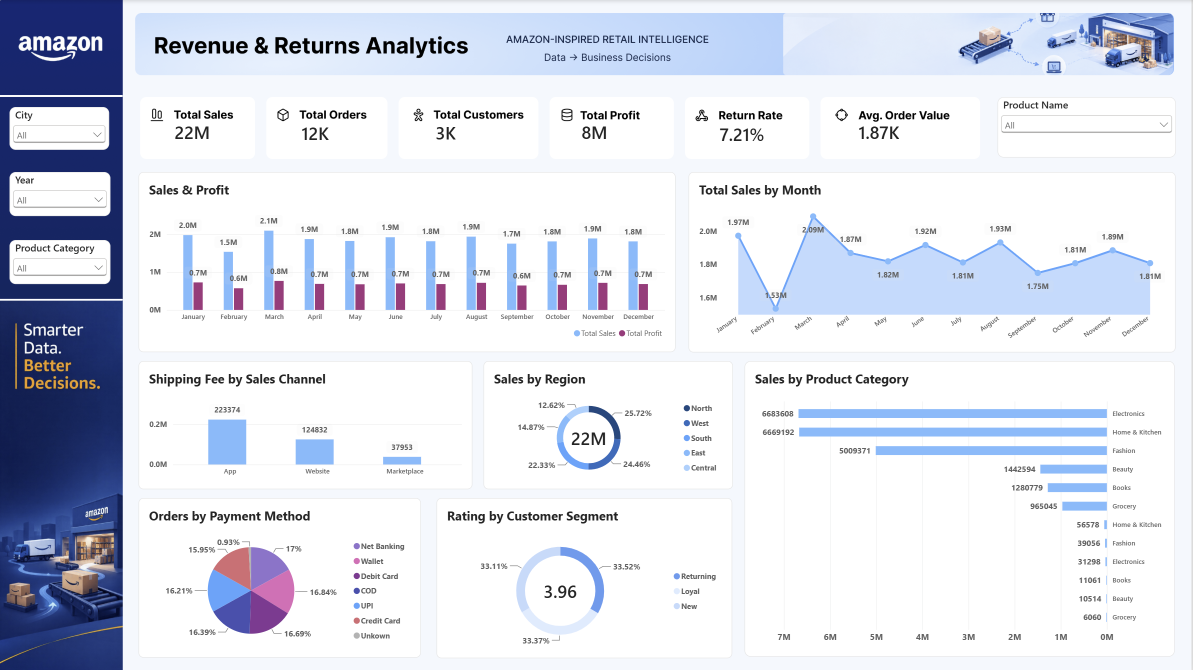

The page's visual inventory and layout, read from the dashboard file:
{"tool":"powerbi","page":{"name":"Page 1","canvas":[1920,1080],"ordinal":0},"visuals":[{"type":"image","box":[0,0,1920,1080],"z":1},{"type":"clusteredColumnChart","title":"Sales & Profit","fields":{"Category":["Amazon_Ecommerce_Messy_Dataset.New_order_date.Variation.Date Hierarchy.Month"],"Y":["Amazon_Ecommerce_Messy_Dataset.Total Sales","Amazon_Ecommerce_Messy_Dataset.Total Profit"]},"box":[225.7,277.1,864.3,290],"z":2},{"type":"donutChart","title":"Sales by Region","fields":{"Category":["Amazon_Ecommerce_Messy_Dataset.Region"],"Y":["Amazon_Ecommerce_Messy_Dataset.Total Sales"]},"box":[780.2,581.4,401.6,206.5],"z":3},{"type":"pieChart","title":"Orders by Payment Method","fields":{"Category":["Amazon_Ecommerce_Messy_Dataset.Payment_Method"],"Y":["Amazon_Ecommerce_Messy_Dataset.Total Orders"]},"box":[225.7,801.4,454.3,257.1],"z":4},{"type":"cardVisual","fields":{"Data":["Amazon_Ecommerce_Messy_Dataset.Total Sales"]},"box":[267.1,177.1,102.9,71.4],"z":6},{"type":"cardVisual","fields":{"Data":["Amazon_Ecommerce_Messy_Dataset.Total Orders"]},"box":[472.4,177.8,118.6,74.6],"z":7},{"type":"cardVisual","fields":{"Data":["Amazon_Ecommerce_Messy_Dataset.Total Customers"]},"box":[686.5,183.6,153,59.3],"z":8},{"type":"cardVisual","fields":{"Data":["Amazon_Ecommerce_Messy_Dataset.Total Profit"]},"box":[921.8,183.6,114.7,57.4],"z":9},{"type":"cardVisual","fields":{"Data":["Amazon_Ecommerce_Messy_Dataset.Return Rate"]},"box":[1144.3,180,114.3,70],"z":10},{"type":"cardVisual","fields":{"Data":["Amazon_Ecommerce_Messy_Dataset.Aov"]},"box":[1367.3,174,166.4,76.5],"z":11},{"type":"areaChart","fields":{"Category":["Amazon_Ecommerce_Messy_Dataset.New_order_date.Variation.Date Hierarchy.Month"],"Y":["Amazon_Ecommerce_Messy_Dataset.Total Sales"]},"box":[1111.1,277.3,784.1,290.7],"z":12},{"type":"barChart","title":"Sales by Product Category","fields":{"Category":["Amazon_Ecommerce_Messy_Dataset.Product_Category"],"Y":["Amazon_Ecommerce_Messy_Dataset.Total Sales"]},"box":[1201,581.4,692.3,476.2],"z":13},{"type":"columnChart","title":"Shipping Fee by Sales Channel","fields":{"Category":["Amazon_Ecommerce_Messy_Dataset.Sales_Channel"],"Y":["Sum(Amazon_Ecommerce_Messy_Dataset.Shipping_Fee)"]},"box":[225.7,581.4,537.4,206.5],"z":14},{"type":"donutChart","title":"Rating by Customer Segment","fields":{"Category":["Amazon_Ecommerce_Messy_Dataset.Customer_Segment"],"Y":["Avg(Amazon_Ecommerce_Messy_Dataset.Customer_Rating)"]},"box":[705.7,801.3,476.2,258.2],"z":15},{"type":"slicer","fields":{"Values":["Amazon_Ecommerce_Messy_Dataset.City"]},"box":[17.2,172.1,160.6,68.8],"z":16},{"type":"slicer","fields":{"Values":["Amazon_Ecommerce_Messy_Dataset.New_order_date.Variation.Date Hierarchy.Year"]},"box":[17.2,277.3,162.5,70.8],"z":17},{"type":"slicer","fields":{"Values":["Amazon_Ecommerce_Messy_Dataset.Product_Category"]},"box":[17.2,386.3,162.5,70.8],"z":18},{"type":"slicer","fields":{"Values":["Amazon_Ecommerce_Messy_Dataset.Product_Name"]},"box":[1608.3,156.8,286.9,97.5],"z":19}]}

Visuals, with their boxes in screenshot pixels (x1, y1, x2, y2), scaled from the page's 1920x1080 canvas onto the 1193x670 screenshot:
image: pyautogui.locateOnScreen(0, 0, 1192, 669)
"Sales & Profit" clusteredColumnChart: pyautogui.locateOnScreen(140, 172, 677, 352)
"Sales by Region" donutChart: pyautogui.locateOnScreen(485, 361, 734, 489)
"Orders by Payment Method" pieChart: pyautogui.locateOnScreen(140, 497, 423, 657)
cardVisual - Amazon_Ecommerce_Messy_Dataset.Total Sales: pyautogui.locateOnScreen(166, 110, 230, 154)
cardVisual - Amazon_Ecommerce_Messy_Dataset.Total Orders: pyautogui.locateOnScreen(294, 110, 367, 157)
cardVisual - Amazon_Ecommerce_Messy_Dataset.Total Customers: pyautogui.locateOnScreen(427, 114, 522, 151)
cardVisual - Amazon_Ecommerce_Messy_Dataset.Total Profit: pyautogui.locateOnScreen(573, 114, 644, 150)
cardVisual - Amazon_Ecommerce_Messy_Dataset.Return Rate: pyautogui.locateOnScreen(711, 112, 782, 155)
cardVisual - Amazon_Ecommerce_Messy_Dataset.Aov: pyautogui.locateOnScreen(850, 108, 953, 155)
areaChart - Amazon_Ecommerce_Messy_Dataset.New_order_date.Variation.Date Hierarchy.Month x Amazon_Ecommerce_Messy_Dataset.Total Sales: pyautogui.locateOnScreen(690, 172, 1178, 352)
"Sales by Product Category" barChart: pyautogui.locateOnScreen(746, 361, 1176, 656)
"Shipping Fee by Sales Channel" columnChart: pyautogui.locateOnScreen(140, 361, 474, 489)
"Rating by Customer Segment" donutChart: pyautogui.locateOnScreen(438, 497, 734, 657)
slicer - Amazon_Ecommerce_Messy_Dataset.City: pyautogui.locateOnScreen(11, 107, 110, 149)
slicer - Amazon_Ecommerce_Messy_Dataset.New_order_date.Variation.Date Hierarchy.Year: pyautogui.locateOnScreen(11, 172, 112, 216)
slicer - Amazon_Ecommerce_Messy_Dataset.Product_Category: pyautogui.locateOnScreen(11, 240, 112, 284)
slicer - Amazon_Ecommerce_Messy_Dataset.Product_Name: pyautogui.locateOnScreen(999, 97, 1178, 158)
